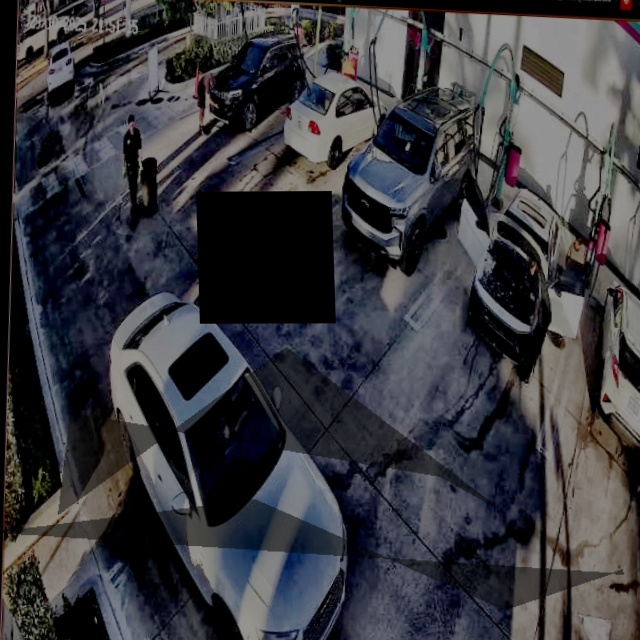Car: (91, 291, 364, 640), (337, 71, 483, 278), (458, 171, 596, 375), (283, 71, 390, 166)
